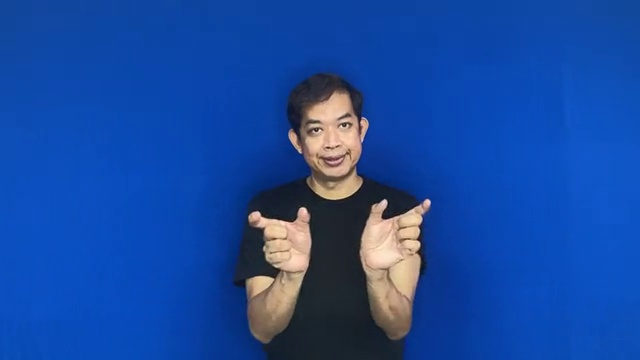crab: (235, 193, 439, 277)
